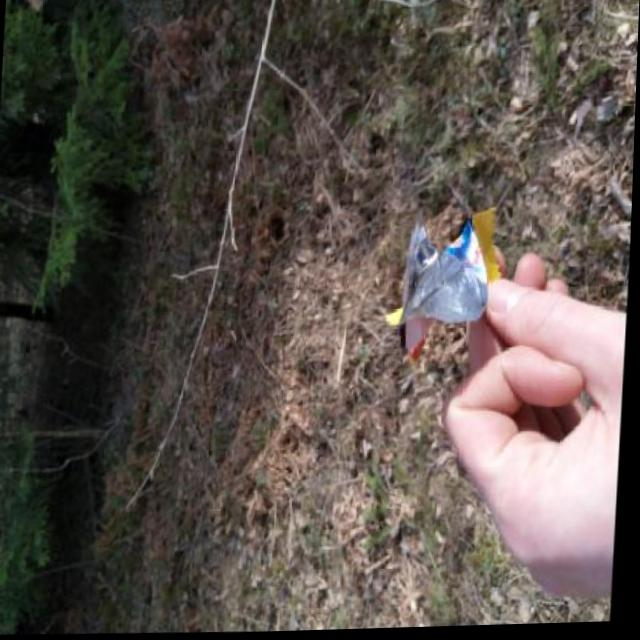plastic: (380, 203, 509, 372)
